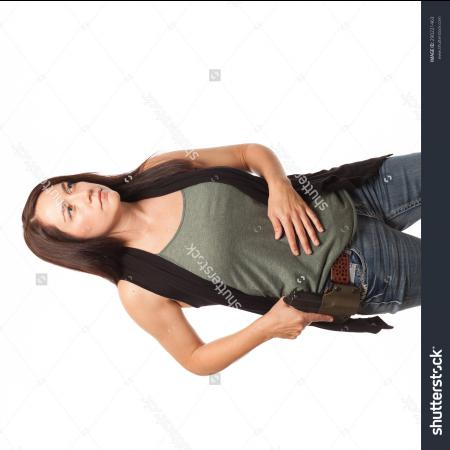Pistol: (281, 286, 361, 330)
